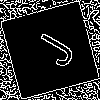J: (25, 25, 78, 71)
